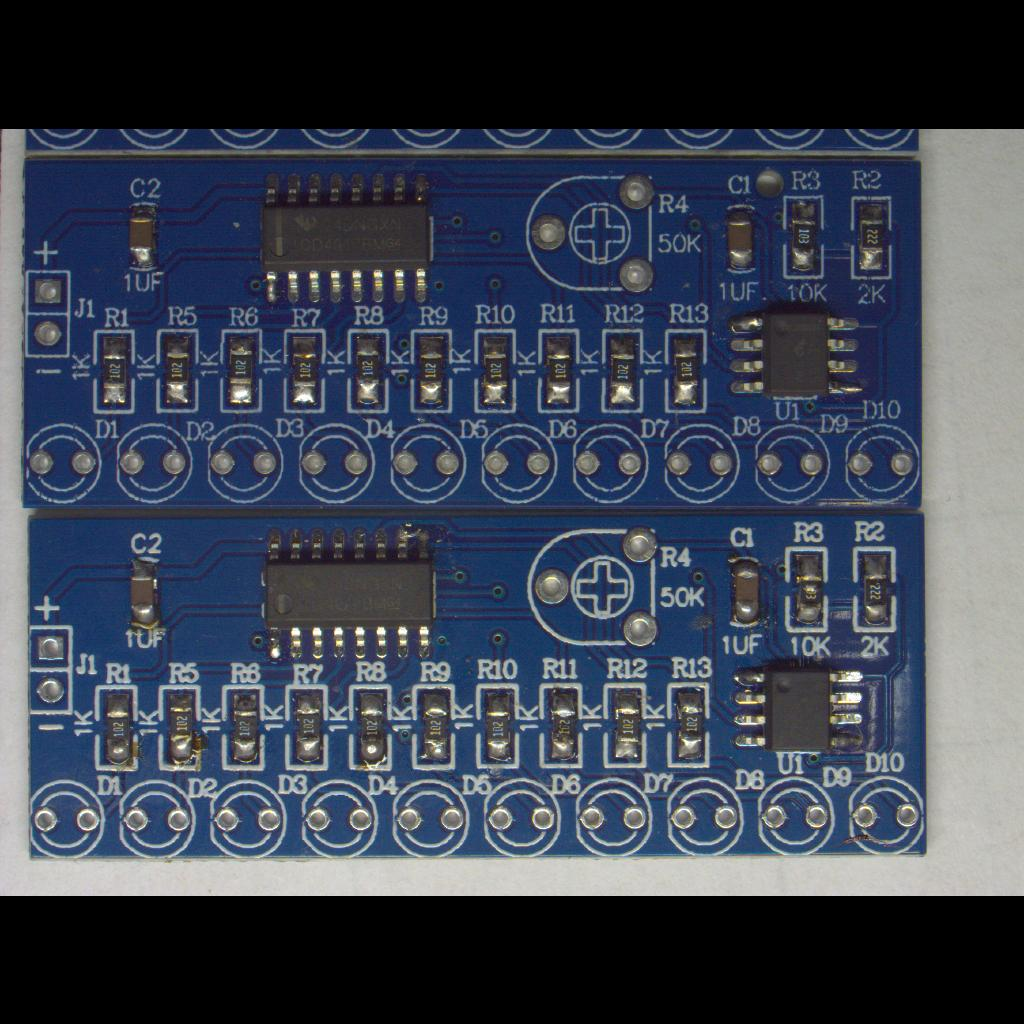OK: (253, 515, 443, 669), (254, 164, 440, 312), (722, 302, 872, 406), (724, 655, 872, 759), (89, 325, 139, 419), (92, 682, 142, 776), (219, 681, 269, 775), (534, 324, 584, 416), (282, 682, 332, 774), (536, 680, 586, 772), (782, 543, 832, 635), (850, 543, 900, 635), (410, 680, 458, 774), (344, 326, 394, 416), (600, 680, 650, 770), (664, 680, 714, 770), (154, 325, 202, 417), (156, 682, 204, 774), (474, 680, 522, 772), (216, 326, 266, 414), (778, 192, 828, 280), (471, 325, 519, 415), (663, 325, 711, 415), (347, 682, 395, 772), (847, 193, 895, 283), (599, 326, 647, 414), (282, 326, 328, 416), (409, 325, 455, 415), (724, 548, 768, 638), (125, 548, 167, 638), (719, 197, 761, 281), (123, 196, 163, 278)
